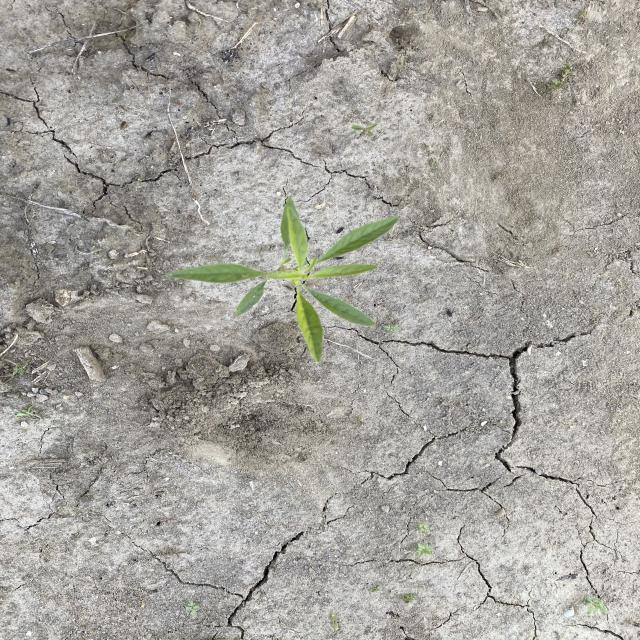Waterhemp: (167, 195, 401, 365)
